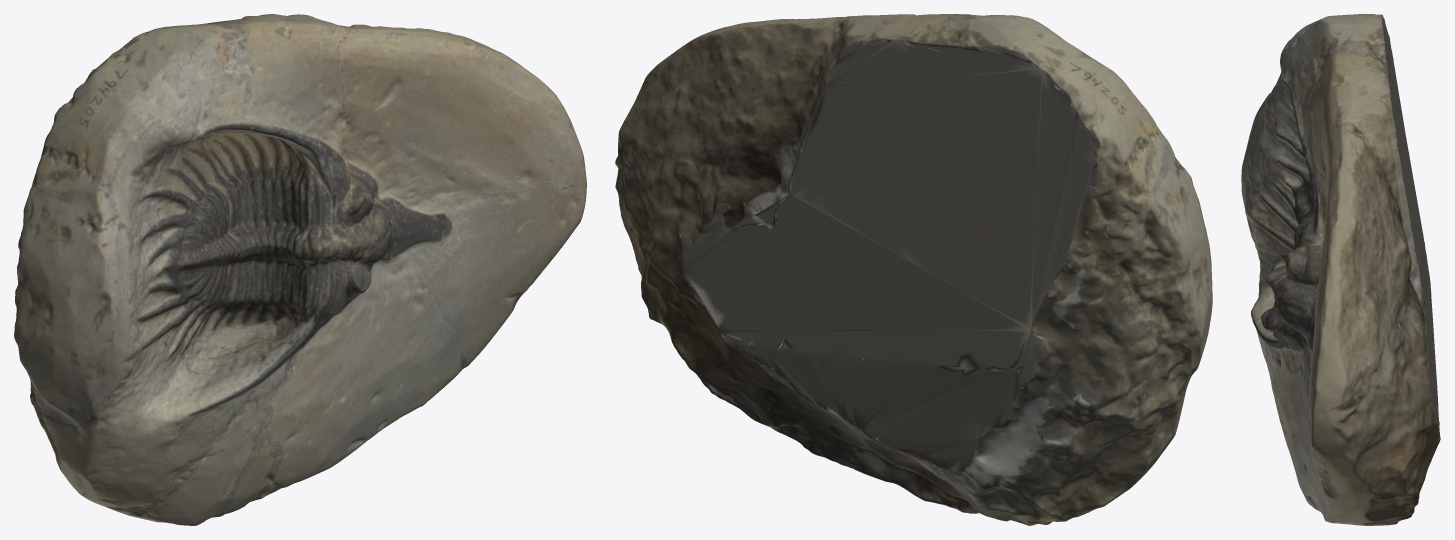
The model's file is trilobite.glb.
3 renders of one model, left to right at view 1: azimuth 30°, elevation 25°; view 2: azimuth 150°, elevation 25°; view 3: azimuth 270°, elevation 25°, orthographic. The views are drawn at different scales.
Parts seen in each view (by area): view 1: Psychopyge_elegans_Termier_-_Termier__1950-unwrapped-webmult; view 2: Psychopyge_elegans_Termier_-_Termier__1950-unwrapped-webmult; view 3: Psychopyge_elegans_Termier_-_Termier__1950-unwrapped-webmult.
Part boxes in pixels (bbox=[...]): Psychopyge_elegans_Termier_-_Termier__1950-unwrapped-webmult: bbox=[14, 14, 586, 525]; Psychopyge_elegans_Termier_-_Termier__1950-unwrapped-webmult: bbox=[615, 14, 1212, 525]; Psychopyge_elegans_Termier_-_Termier__1950-unwrapped-webmult: bbox=[1241, 14, 1440, 525].
Bounding box in the file's own units: 0.1664 × 0.1344 × 0.0539.
1 material, 1 textured.
